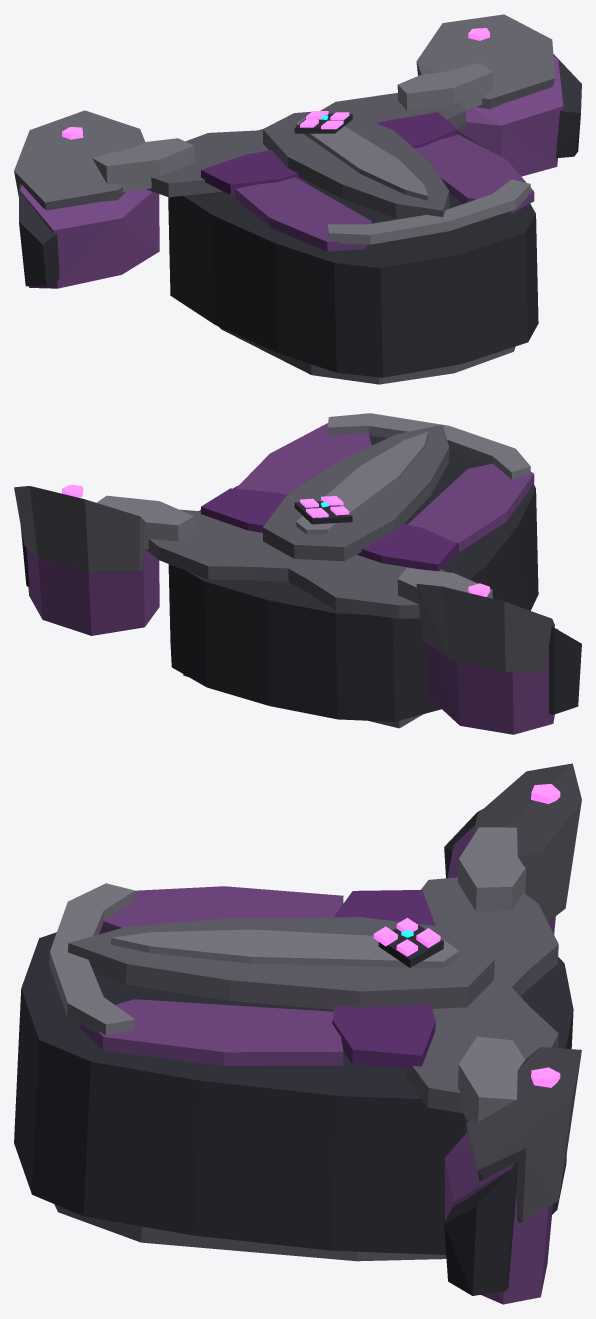
Rendered from FOTF_Carapace_Event_Horizon.fbx.
The picture shows the model from 3 angles, top to bottom: view 1: azimuth 30°, elevation 25°; view 2: azimuth 150°, elevation 25°; view 3: azimuth 270°, elevation 25°; orthographic projection. The views are drawn at different scales.
Parts seen in each view (by area): view 1: FOTF_Carapace_Torso, FOTF_Carapace_Pauldron_R, FOTF_Carapace_Pauldron_L; view 2: FOTF_Carapace_Torso, FOTF_Carapace_Pauldron_R, FOTF_Carapace_Pauldron_L; view 3: FOTF_Carapace_Torso, FOTF_Carapace_Pauldron_L, FOTF_Carapace_Pauldron_R.
Boxes of the visible parts, x1,y1,x2,y2 form: FOTF_Carapace_Torso: (92, 63, 538, 384); FOTF_Carapace_Pauldron_R: (14, 110, 159, 288); FOTF_Carapace_Pauldron_L: (416, 14, 581, 176); FOTF_Carapace_Torso: (96, 413, 538, 728); FOTF_Carapace_Pauldron_R: (416, 583, 581, 734); FOTF_Carapace_Pauldron_L: (14, 484, 159, 635); FOTF_Carapace_Torso: (14, 827, 573, 1261); FOTF_Carapace_Pauldron_L: (444, 1047, 581, 1304); FOTF_Carapace_Pauldron_R: (444, 763, 581, 934).
Bounding box in the file's own units: 96.2 × 29.31 × 58.63.
